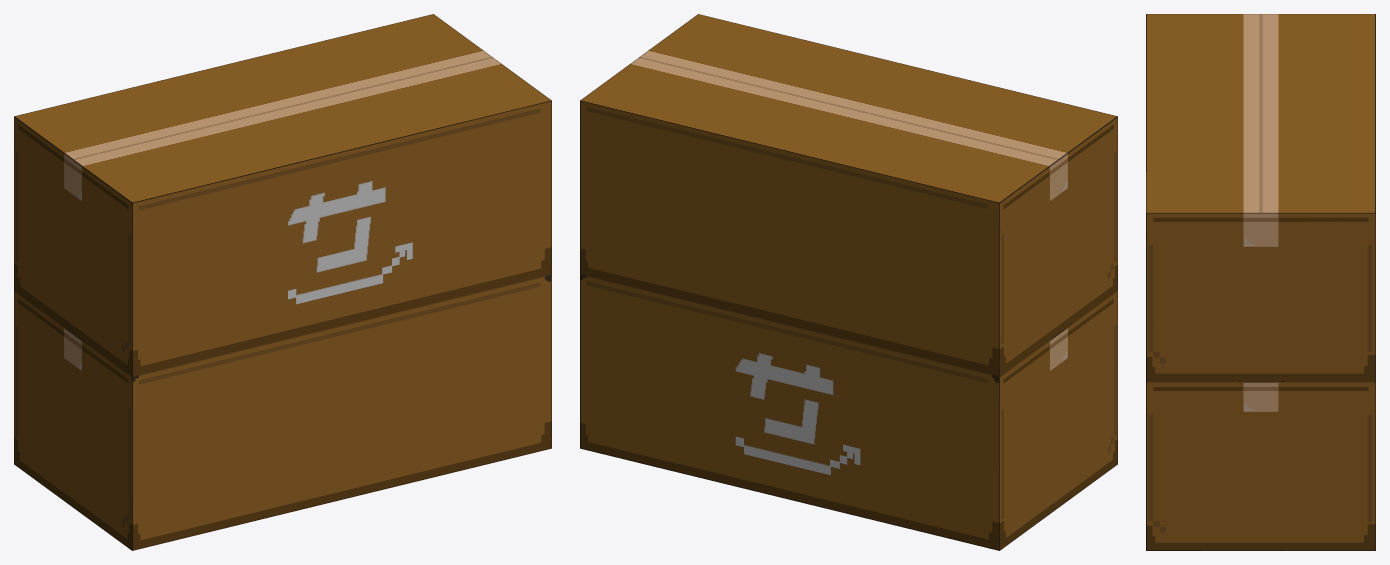
File: DeskLv1.glb
The picture shows the model from 3 angles, left to right: view 1: azimuth 30°, elevation 25°; view 2: azimuth 150°, elevation 25°; view 3: azimuth 270°, elevation 25°; orthographic projection. The views are drawn at different scales.
Visible parts, largest first — view 1: Desk; view 2: Desk; view 3: Desk.
Boxes of the visible parts, x1,y1,x2,y2 form: Desk: [14, 14, 551, 550]; Desk: [580, 14, 1117, 550]; Desk: [1146, 14, 1375, 550].
Size of the model in its own units: 4.1 by 3.25 by 2.
Materials: 1 (1 with a texture image).
